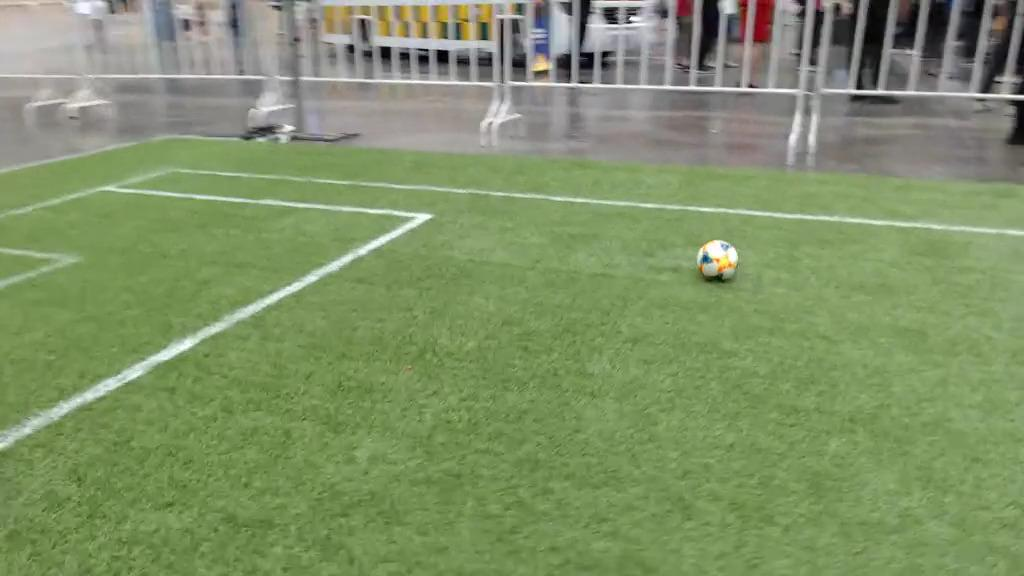ball: (697, 239, 737, 282)
